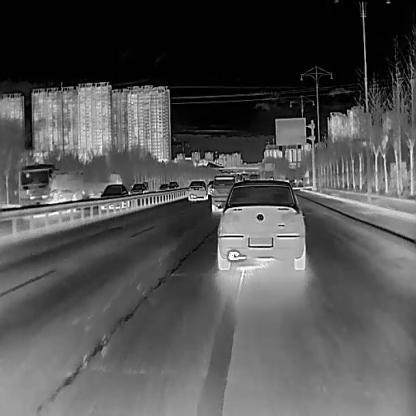car: (217, 179, 306, 270), (17, 162, 82, 202), (210, 174, 236, 212), (98, 183, 129, 208), (186, 180, 207, 199), (127, 181, 148, 195), (167, 180, 178, 190), (157, 182, 168, 191)
